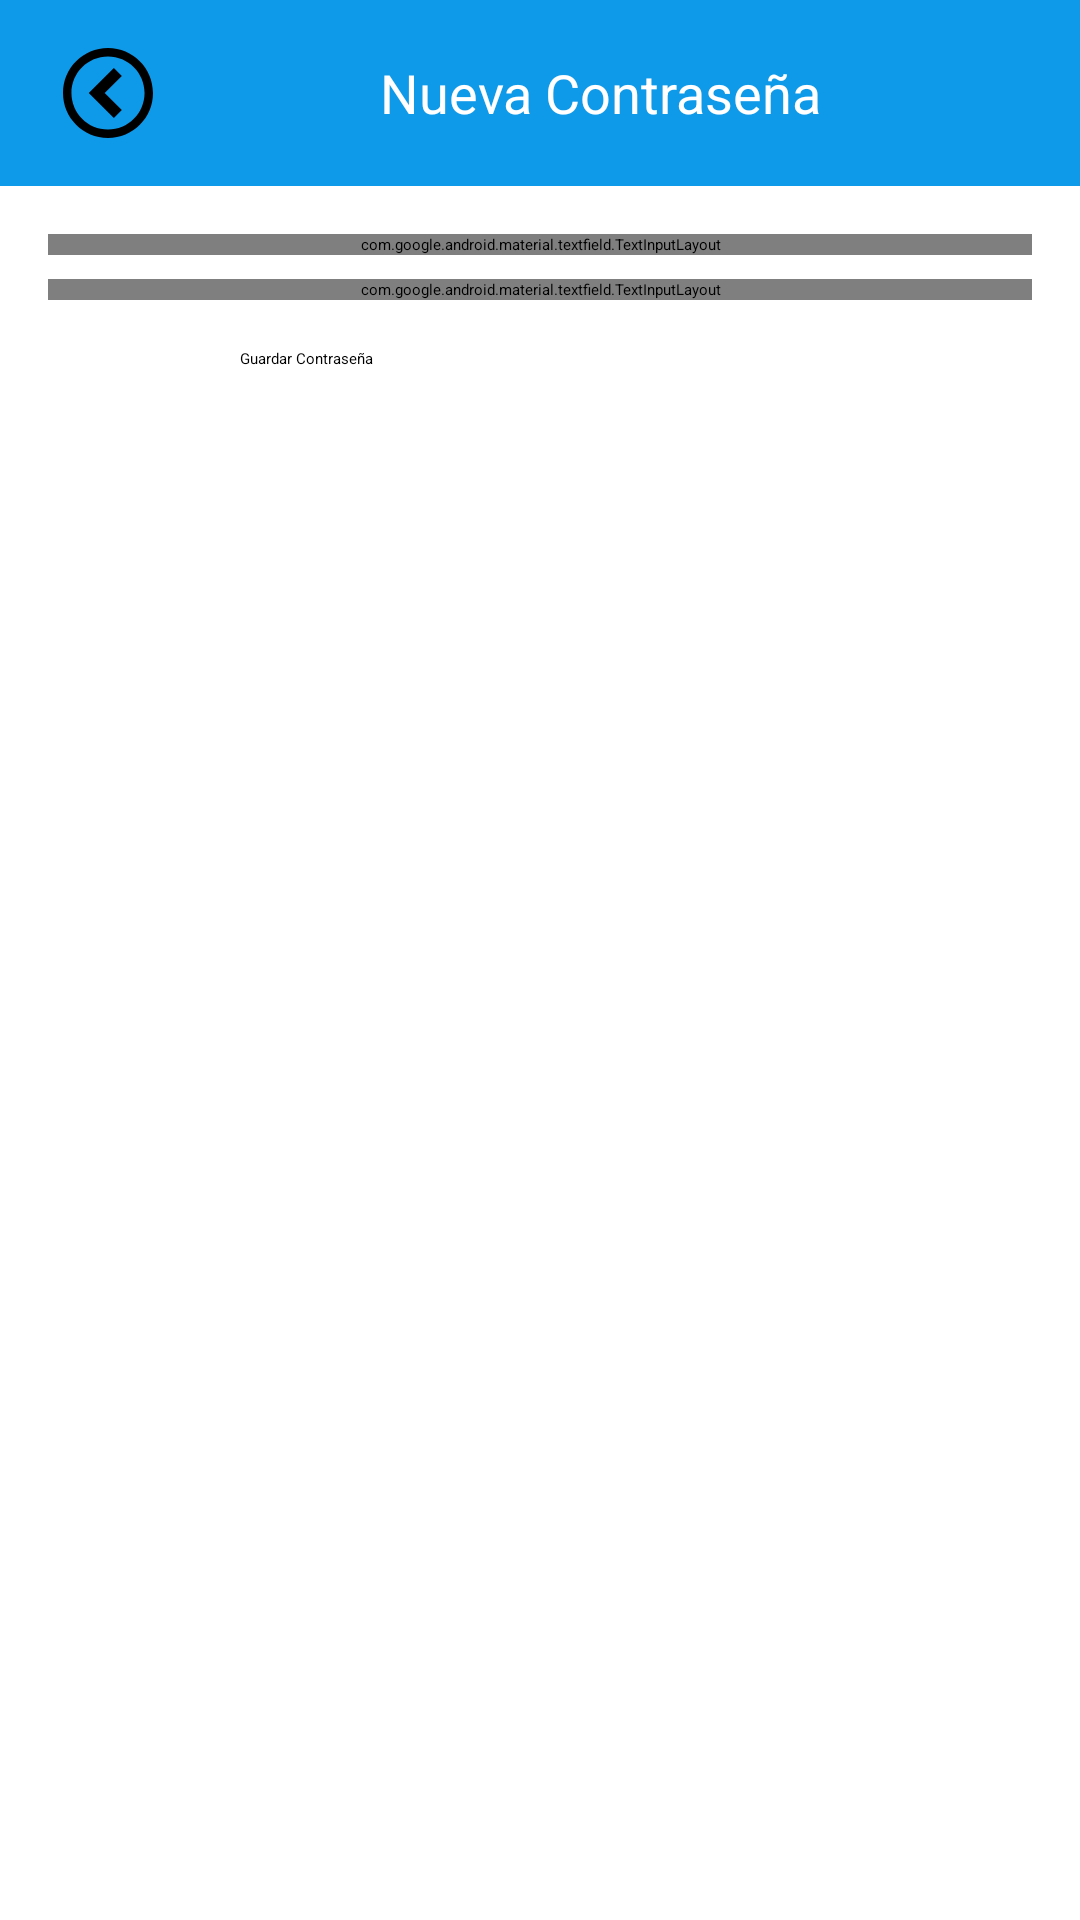

Point at icon controls on the screen. Image size 1080x1920, points as (x=x, y=y).
arrow left: (x=108, y=93)
